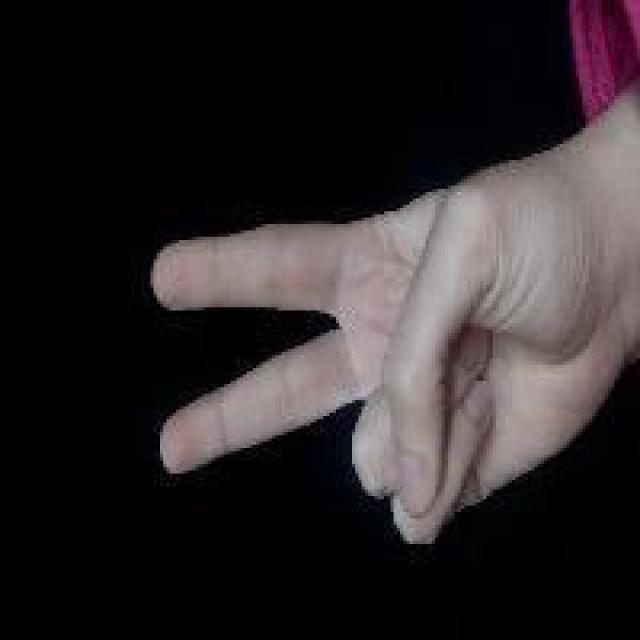V: (99, 148, 490, 614)
